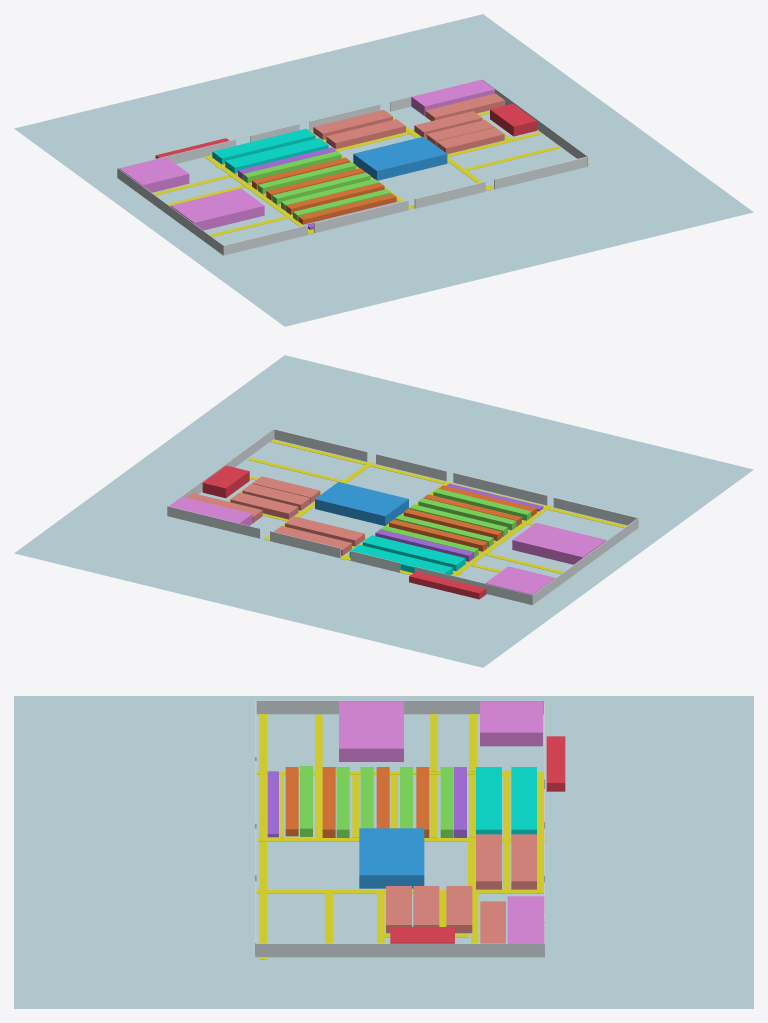
File: LSmainfactory.glb
The picture shows the model from 3 angles, top to bottom: view 1: azimuth 30°, elevation 25°; view 2: azimuth 150°, elevation 25°; view 3: azimuth 270°, elevation 25°; orthographic projection. The views are drawn at different scales.
Parts seen in each view (by area): view 1: ground, line08.009, line08.003, line08.002, line08.004, line08.001, line08, line08.006, wall14, wall12.001, line08.010, wall12.003 (+21 smaller); view 2: ground, line08.009, line08.003, line08, wall14, line08.002, wall12.001, line08.004, wall12.003, line08.008, wall01.003, line08.006 (+23 smaller); view 3: ground, wall14.001, line08.003, line08.009, line08.002, wall14, line08.004, line08, line08.001, line08.005, line08.006, line08.011 (+23 smaller).
Boxes of the visible parts, box(x1,y1,x2,y2) form: ground: box(14, 14, 753, 326); line08.009: box(353, 136, 447, 180); line08.003: box(170, 188, 264, 230); line08.002: box(119, 157, 189, 192); line08.004: box(411, 79, 494, 115); line08.001: box(212, 128, 315, 164); line08: box(225, 138, 328, 173); line08.006: box(326, 119, 405, 149); wall14: box(117, 168, 222, 254); wall12.001: box(314, 200, 408, 232); line08.010: box(425, 93, 505, 120); wall12.003: box(494, 156, 587, 189); ground: box(14, 355, 753, 667); line08.009: box(315, 482, 408, 525); line08.003: box(512, 523, 606, 564); line08: box(362, 535, 465, 570); wall14: box(532, 518, 638, 605); line08.002: box(485, 566, 554, 594); wall12.001: box(453, 472, 547, 505); line08.004: box(169, 496, 252, 525); wall12.003: box(274, 429, 367, 461); line08.008: box(202, 465, 249, 498); wall01.003: box(167, 506, 260, 538); line08.006: box(285, 516, 364, 546); ground: box(14, 696, 753, 1008); wall14.001: box(256, 943, 543, 957); line08.003: box(339, 701, 403, 761); line08.009: box(359, 828, 424, 888); line08.002: box(480, 701, 542, 746); wall14: box(256, 700, 544, 714); line08.004: box(507, 896, 544, 943); line08: box(476, 767, 501, 834); line08.001: box(511, 767, 536, 834); line08.005: box(511, 834, 536, 889); line08.006: box(476, 834, 501, 889); line08.011: box(446, 886, 472, 933).
Size of the model in its own units: 400 by 8.19 by 400.
